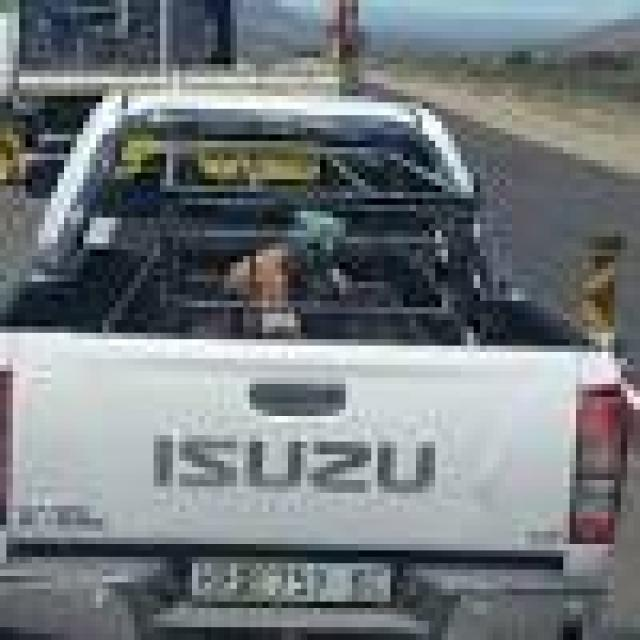Pickup Trucks: (6, 90, 634, 634)
